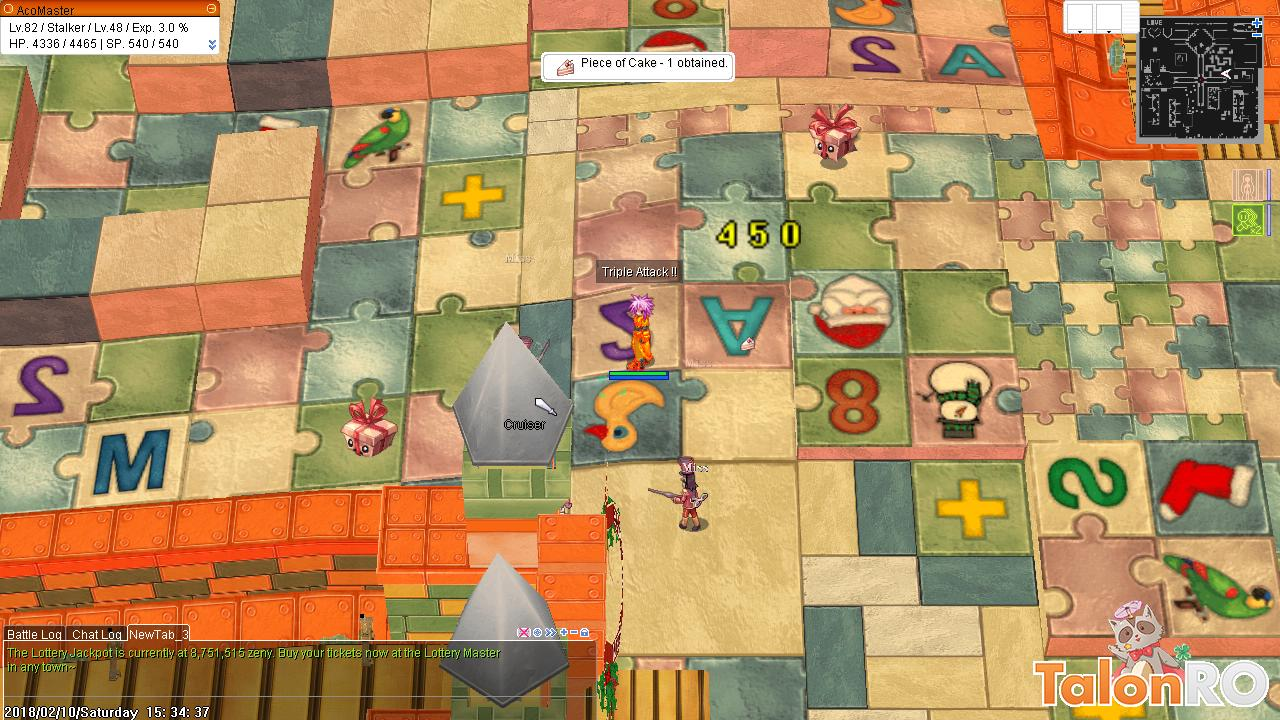loot: (738, 337, 758, 358)
mob: (646, 453, 713, 538)
myst_case: (802, 103, 863, 168), (339, 396, 397, 460)
